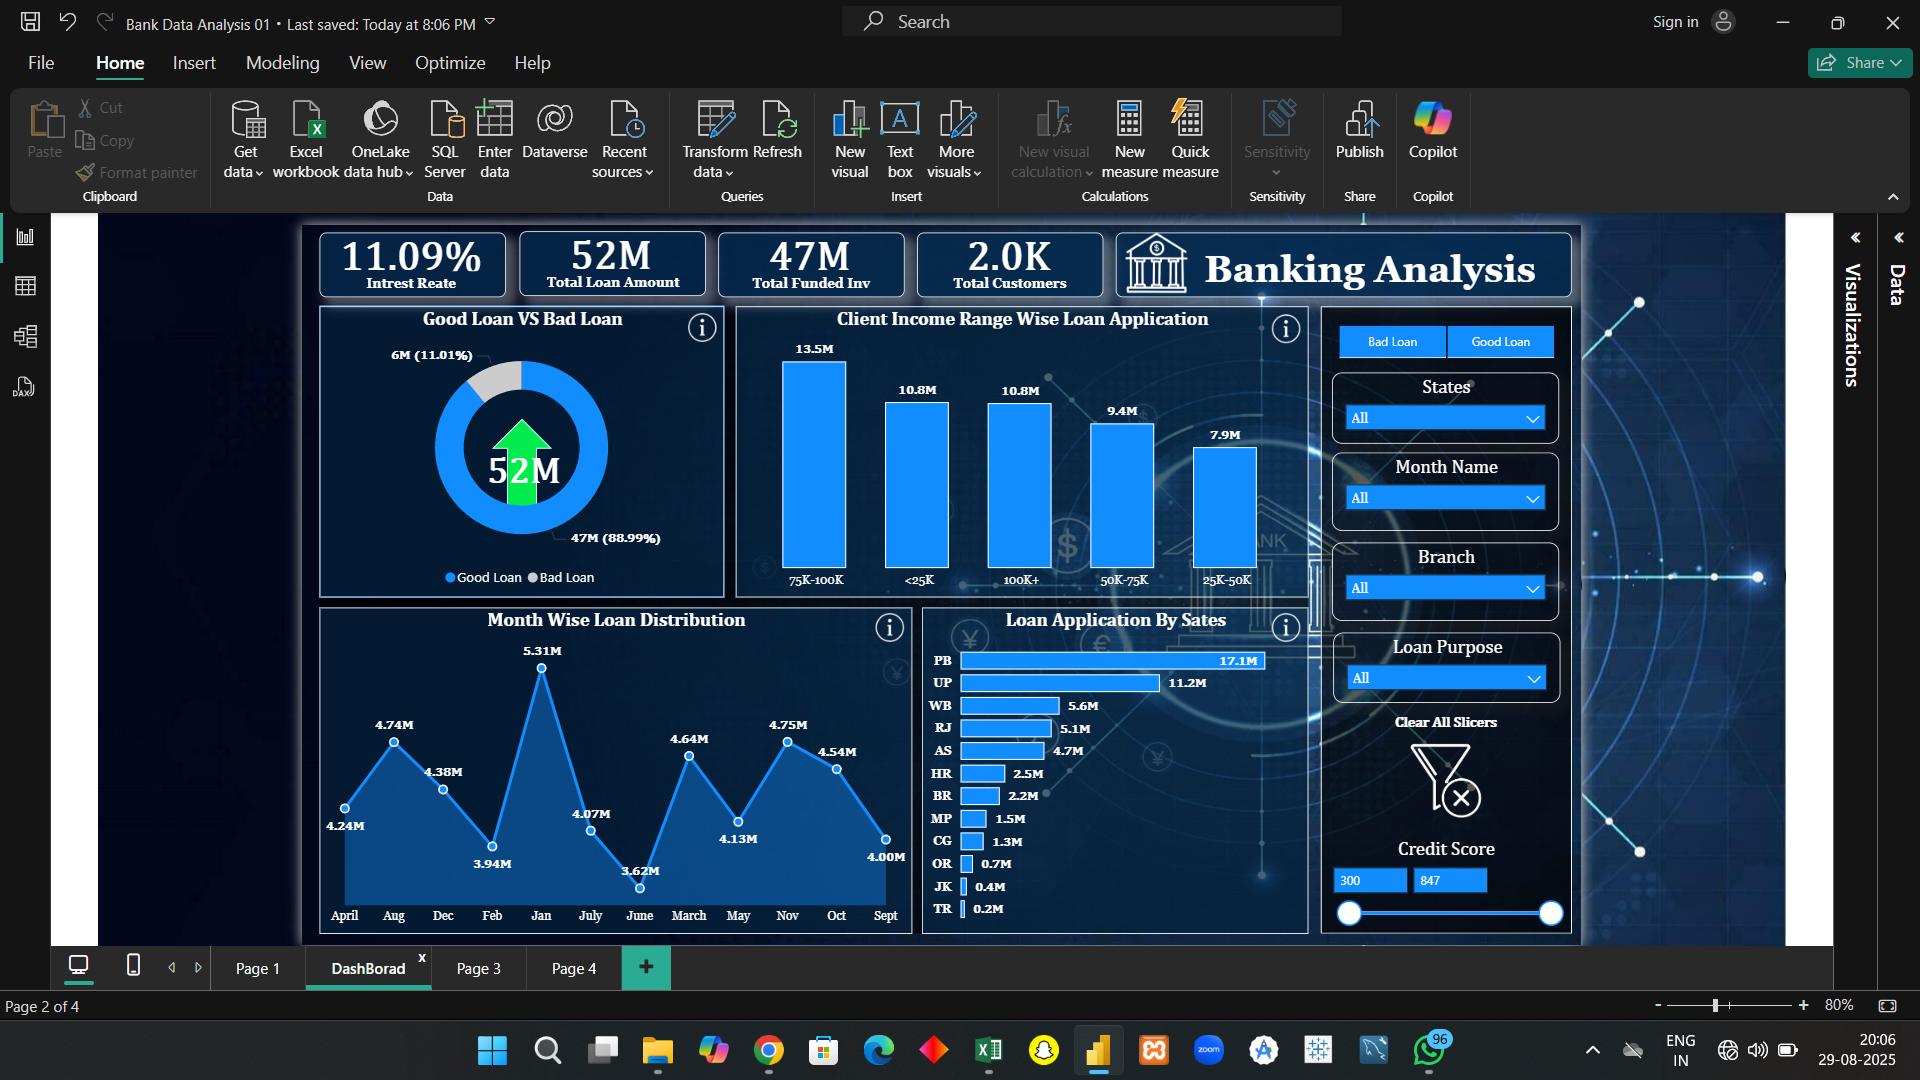

The page's visual inventory and layout, read from the dashboard file:
{"tool":"powerbi","page":{"name":"DashBorad","canvas":[1280,720],"ordinal":1},"visuals":[{"type":"shape","box":[813.5,7.2,456.2,65],"z":0},{"type":"shape","box":[190,193.8,60,111.2],"z":0,"group":"g1"},{"type":"shape","box":[17.5,80,405,292.5],"z":1000,"group":"g1"},{"type":"shape","box":[17.5,81.2,988.8,627.5],"z":1000},{"type":"group","id":"g1","title":"Good Loan Chart","box":[17.5,80,405,292.5],"z":2000},{"type":"donutChart","title":"Good Loan VS Bad Loan ","fields":{"Category":["Table1.Good Vs Bad Loan"],"Y":["Sum(Table1.Loan Amount)"]},"box":[17.5,81.2,405,291.2],"z":2000,"group":"g1"},{"type":"card","fields":{"Values":["Sum(Table1.Loan Amount)"]},"box":[155,202.5,135,81.2],"z":3000,"group":"g1"},{"type":"areaChart","title":"Month Wise Loan Distribution","fields":{"Category":["Table1.Month Name"],"Y":["Sum(Table1.Loan Amount)"]},"box":[17.5,382.5,592.5,326.2],"z":3000},{"type":"barChart","title":"Loan Application  By Sates","fields":{"Category":["Table1.State Abbr"],"Y":["Sum(Table1.Loan Amount)"]},"box":[620,382.5,386.2,326.2],"z":4000},{"type":"columnChart","title":" Client Income Range Wise Loan Application","fields":{"Category":["Table1.Client Income Range"],"Y":["Sum(Table1.Loan Amount)"]},"box":[433.8,81.2,572.5,291.2],"z":5000},{"type":"shape","box":[1018.8,81.2,251.2,627.5],"z":6000},{"type":"slicer","title":"Month Name","fields":{"Values":["Table1.Month Name"]},"box":[1030,227.5,227.5,78.8],"z":7000},{"type":"slicer","title":"States","fields":{"Values":["Table1.State Abbr"]},"box":[1030,147.5,227.5,71.2],"z":8000},{"type":"slicer","fields":{"Values":["Table1.Good Vs Bad Loan"]},"box":[1011.2,93.8,265,46.2],"z":9000},{"type":"slicer","title":"Loan Purpose","fields":{"Values":["Table1.Purpose Category"]},"box":[1031.2,407.5,227.5,70],"z":10000},{"type":"slicer","title":"Branch","fields":{"Values":["Table1.Branch Name_x"]},"box":[1030,317.5,227.5,78.8],"z":11000},{"type":"slicer","title":"Credit Score","fields":{"Values":["Dim Client.Credit Score"]},"box":[1028.2,624.5,251.5,95.7],"z":12000},{"type":"shape","box":[17.5,7.5,186.2,65],"z":13000},{"type":"card","fields":{"Values":["Avg(Table1.Int Rate)"]},"box":[15,6.2,188.8,45],"z":14000},{"type":"textbox","box":[20,43.8,178.8,40],"z":15000},{"type":"shape","box":[217.3,6.2,186.2,65],"z":16000},{"type":"card","fields":{"Values":["Sum(Table1.Loan Amount)"]},"box":[214.8,5,188.8,45],"z":17000},{"type":"textbox","box":[239.5,42.5,163.8,40],"z":18000},{"type":"shape","box":[416,7.5,186.2,65],"z":19000},{"type":"card","fields":{"Values":["Sum(Table1.Funded Amount Inv)"]},"box":[413.5,6.2,188.8,45],"z":20000},{"type":"textbox","box":[427.5,43.8,163.8,40],"z":21000},{"type":"shape","box":[614.7,7.5,186.2,65],"z":22000},{"type":"card","fields":{"Values":["CountNonNull(Table1.Account ID)"]},"box":[612.2,6.2,188.8,45],"z":23000},{"type":"textbox","box":[626.1,43.8,163.8,40],"z":24000},{"type":"image","box":[813.5,0.9,80,72.5],"z":25000},{"type":"textbox","box":[873.5,17.2,388.8,62.5],"z":26000},{"type":"image","title":"Clear All Slicers","box":[1077.5,490,132.5,112.5],"z":27000},{"type":"image","title":"i for Good Loan","box":[378.8,82.5,43.8,40],"z":28000},{"type":"image","title":"i for income","box":[962.5,83.8,43.8,40],"z":29000},{"type":"image","title":"i for staes","box":[962.5,382.5,43.8,40],"z":30000},{"type":"image","title":"i for Month","box":[566.2,382.5,43.8,40],"z":31000}]}

Visuals, with their boxes on the page's 1280x720 design canvas (x1, y1, x2, y2). These are canvas units, not pixel positions in the 1920x1080 screenshot, which may show the page scaled, cropped or inside an application window:
shape: 814,7,1270,72
shape: 190,194,250,305
shape: 18,80,422,372
shape: 18,81,1006,709
"Good Loan Chart" group: 18,80,422,372
"Good Loan VS Bad Loan " donutChart: 18,81,422,372
card - Sum(Table1.Loan Amount): 155,202,290,284
"Month Wise Loan Distribution" areaChart: 18,382,610,709
"Loan Application  By Sates" barChart: 620,382,1006,709
" Client Income Range Wise Loan Application" columnChart: 434,81,1006,372
shape: 1019,81,1270,709
"Month Name" slicer: 1030,228,1258,306
"States" slicer: 1030,148,1258,219
slicer - Table1.Good Vs Bad Loan: 1011,94,1276,140
"Loan Purpose" slicer: 1031,408,1259,478
"Branch" slicer: 1030,318,1258,396
"Credit Score" slicer: 1028,624,1280,720
shape: 18,8,204,72
card - Avg(Table1.Int Rate): 15,6,204,51
textbox: 20,44,199,84
shape: 217,6,404,71
card - Sum(Table1.Loan Amount): 215,5,404,50
textbox: 240,42,403,82
shape: 416,8,602,72
card - Sum(Table1.Funded Amount Inv): 414,6,602,51
textbox: 428,44,591,84
shape: 615,8,801,72
card - CountNonNull(Table1.Account ID): 612,6,801,51
textbox: 626,44,790,84
image: 814,1,894,73
textbox: 874,17,1262,80
"Clear All Slicers" image: 1078,490,1210,602
"i for Good Loan" image: 379,82,423,122
"i for income" image: 962,84,1006,124
"i for staes" image: 962,382,1006,422
"i for Month" image: 566,382,610,422
